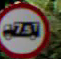Heavy Vehicles: (0, 1, 53, 55)
